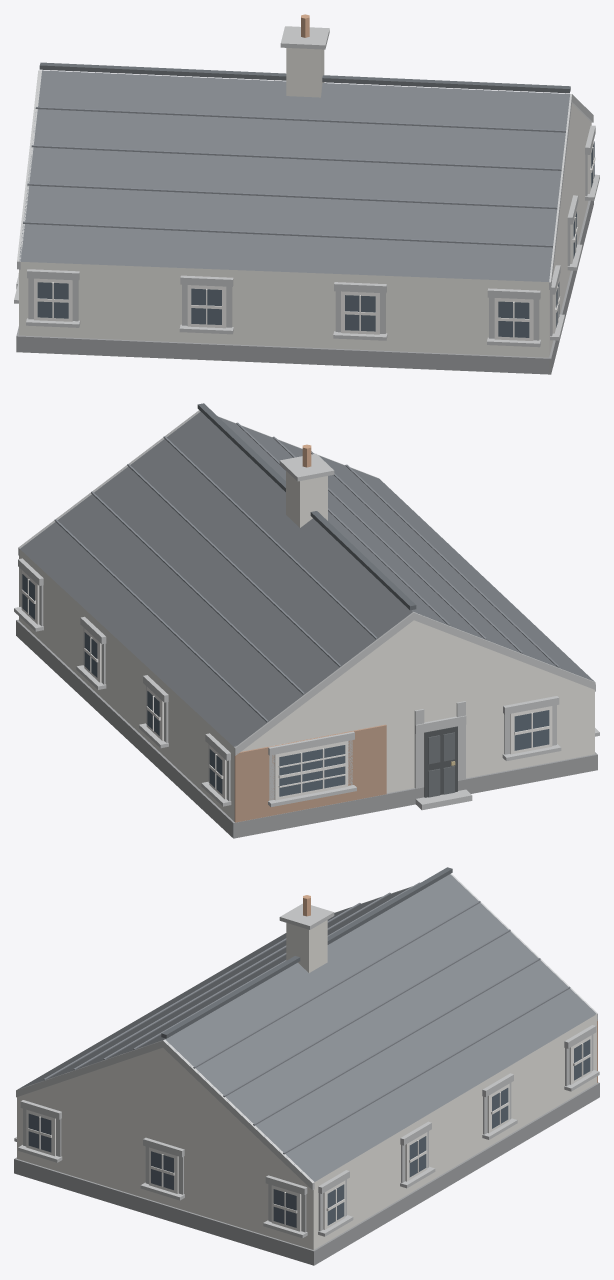
3 views of the same model, one above another, from view 1: azimuth 30°, elevation 25°; view 2: azimuth 150°, elevation 25°; view 3: azimuth 270°, elevation 25° (orthographic). The views are drawn at different scales.
Visible parts, largest first — view 1: slate, harl, plinth, stone_band, slate_lt, frame, slate_dk, chim_render, window_glass_007, window_glass_010, window_glass_009, window_glass_008; view 2: slate, harl, stone_band, plinth, slate_lt, ss_red, frame, window_glass_002, slate_dk, chim_render, door_dark_p, window_glass_001 (+1 smaller); view 3: slate, harl, stone_band, plinth, slate_lt, frame, slate_dk, chim_render, window_glass_013, window_glass_011, window_glass_012.
Part boxes in pixels (left/top/right/bottom): slate: left=19, top=70, right=569, bottom=281; harl: left=19, top=104, right=591, bottom=357; plinth: left=16, top=200, right=593, bottom=374; stone_band: left=14, top=26, right=599, bottom=347; slate_lt: left=23, top=107, right=565, bottom=247; frame: left=18, top=142, right=595, bottom=340; slate_dk: left=39, top=62, right=570, bottom=93; chim_render: left=286, top=48, right=324, bottom=97; window_glass_007: left=37, top=282, right=68, bottom=318; window_glass_010: left=498, top=301, right=529, bottom=337; window_glass_009: left=345, top=295, right=375, bottom=331; window_glass_008: left=191, top=288, right=221, bottom=324; slate: left=20, top=411, right=594, bottom=746; harl: left=19, top=549, right=594, bottom=821; stone_band: left=14, top=410, right=599, bottom=810; plinth: left=16, top=619, right=597, bottom=838; slate_lt: left=54, top=422, right=559, bottom=722; ss_red: left=234, top=724, right=386, bottom=822; frame: left=21, top=570, right=552, bottom=800; window_glass_002: left=279, top=745, right=345, bottom=796; slate_dk: left=197, top=403, right=416, bottom=610; chim_render: left=286, top=471, right=327, bottom=527; door_dark_p: left=428, top=732, right=454, bottom=797; window_glass_001: left=514, top=710, right=549, bottom=750; slate: left=18, top=874, right=596, bottom=1181; harl: left=17, top=1014, right=596, bottom=1249; stone_band: left=14, top=873, right=599, bottom=1238; plinth: left=14, top=1082, right=599, bottom=1265; slate_lt: left=43, top=882, right=570, bottom=1154; frame: left=26, top=1035, right=591, bottom=1231; slate_dk: left=161, top=867, right=452, bottom=1038; chim_render: left=286, top=920, right=327, bottom=972; window_glass_013: left=273, top=1189, right=296, bottom=1227; window_glass_011: left=28, top=1113, right=51, bottom=1152; window_glass_012: left=151, top=1151, right=173, bottom=1189.
Size of the model in its own units: 17.45 by 7.44 by 16.57.
